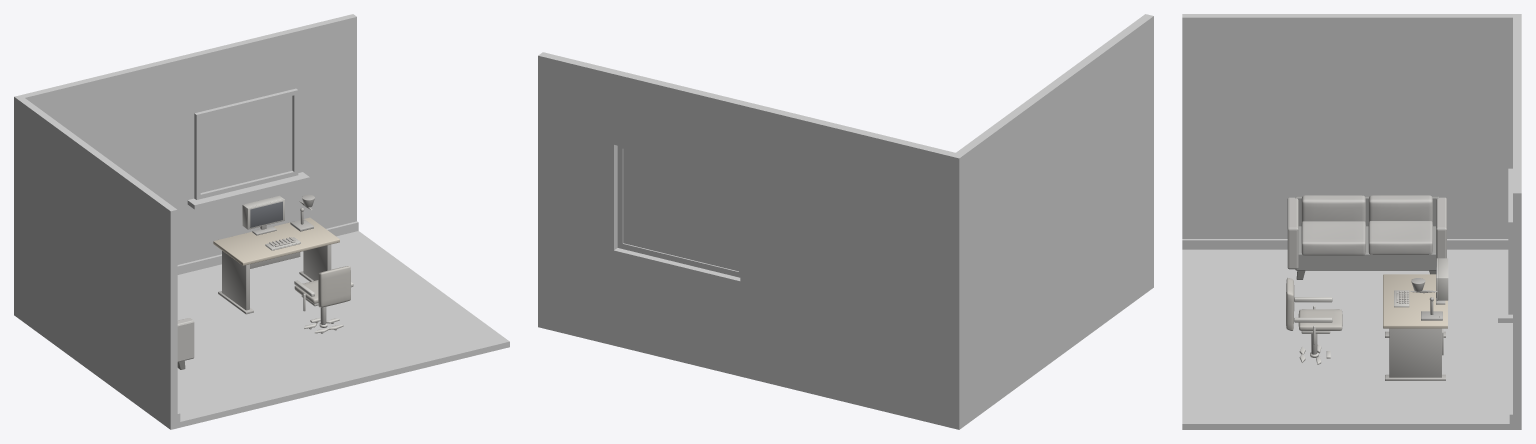
Rendered from vq1c-hero-corner-polished.glb.
3 views of the same model, side by side, from view 1: azimuth 30°, elevation 25°; view 2: azimuth 150°, elevation 25°; view 3: azimuth 270°, elevation 25° (orthographic). The views are drawn at different scales.
Parts seen in each view (by area): view 1: SIDE_WALL, FLOOR, BACK_WALL_LEFT, BACK_WALL_RIGHT, GLASS_PLACEHOLDER, BACK_WALL_TOP, BACK_WALL_BOTTOM, DESK_TOP, DESK_FRAME_LEFT, CHAIR_BACK_CUSHION, WINDOW_SILL, DESK_FRAME_RIGHT (+7 smaller); view 2: BACK_WALL_LEFT, SIDE_WALL, BACK_WALL_RIGHT, BACK_WALL_BOTTOM, GLASS_PLACEHOLDER, BACK_WALL_TOP, FLOOR, FRAME_BOTTOM, FRAME_RIGHT; view 3: SIDE_WALL, FLOOR, DESK_FRAME_RIGHT, DESK_TOP, SOFA_BASE, BACK_WALL_RIGHT, SOFA_SEAT_CUSHION_LEFT, SOFA_SEAT_CUSHION_RIGHT, BASEBOARD_SIDE, SOFA_BACK_CUSHION_LEFT, SOFA_BACK_CUSHION_RIGHT, SOFA_ARM_LEFT (+10 smaller).
Boxes of the visible parts, bbox=[...] form: SIDE_WALL: bbox=[14, 96, 177, 423]; FLOOR: bbox=[14, 231, 509, 429]; BACK_WALL_LEFT: bbox=[14, 53, 194, 311]; BACK_WALL_RIGHT: bbox=[292, 14, 356, 228]; GLASS_PLACEHOLDER: bbox=[200, 96, 292, 192]; BACK_WALL_TOP: bbox=[191, 29, 295, 113]; BACK_WALL_BOTTOM: bbox=[194, 185, 295, 260]; DESK_TOP: bbox=[213, 217, 339, 265]; DESK_FRAME_LEFT: bbox=[222, 251, 249, 310]; CHAIR_BACK_CUSHION: bbox=[318, 266, 350, 307]; WINDOW_SILL: bbox=[187, 172, 309, 209]; DESK_FRAME_RIGHT: bbox=[303, 244, 331, 280]; BACK_WALL_LEFT: bbox=[740, 101, 964, 422]; SIDE_WALL: bbox=[951, 14, 1153, 422]; BACK_WALL_RIGHT: bbox=[538, 52, 618, 338]; BACK_WALL_BOTTOM: bbox=[614, 248, 740, 369]; GLASS_PLACEHOLDER: bbox=[623, 149, 738, 271]; BACK_WALL_TOP: bbox=[614, 70, 744, 175]; FLOOR: bbox=[538, 280, 1153, 429]; FRAME_BOTTOM: bbox=[622, 243, 738, 277]; FRAME_RIGHT: bbox=[617, 145, 623, 248]; SIDE_WALL: bbox=[1182, 14, 1521, 238]; FLOOR: bbox=[1182, 249, 1521, 429]; DESK_FRAME_RIGHT: bbox=[1389, 328, 1441, 377]; DESK_TOP: bbox=[1383, 274, 1447, 328]; SOFA_BASE: bbox=[1295, 226, 1436, 270]; BACK_WALL_RIGHT: bbox=[1513, 161, 1521, 423]; SOFA_SEAT_CUSHION_LEFT: bbox=[1301, 221, 1365, 255]; SOFA_SEAT_CUSHION_RIGHT: bbox=[1368, 221, 1432, 254]; BASEBOARD_SIDE: bbox=[1182, 239, 1508, 249]; SOFA_BACK_CUSHION_LEFT: bbox=[1301, 195, 1365, 223]; SOFA_BACK_CUSHION_RIGHT: bbox=[1368, 195, 1432, 223]; SOFA_ARM_LEFT: bbox=[1287, 197, 1298, 269].
Bounding box in the file's own units: 5 × 3.08 × 4.
